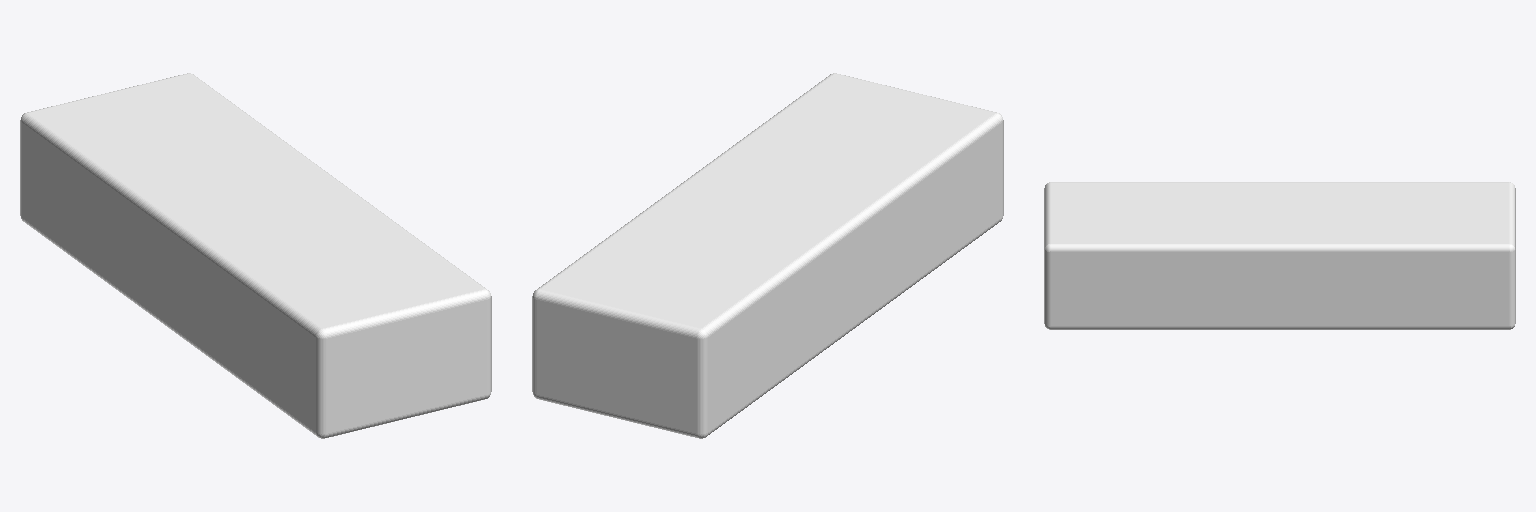
The robot description file, URDF, robot "Probe_tube":
<?xml version="1.0" ?>
<robot name="Probe_tube">
  <link name="baseLink">
    <contact>
      <lateral_friction value="0.6"/>
      <rolling_friction value="0.001"/>
      <contact_cfm value="0.0"/>
      <contact_erp value="1.0"/>
    </contact>
    <inertial>
      <origin rpy="0 0 0" xyz="0 0 0"/>
      <mass value="0.05"/>
      <inertia ixx="0.00001" ixy="0" ixz="0" iyy="0.00001" iyz="0" izz="0.00001"/>
    </inertial>
    <visual>
      <origin rpy="0 0 0" xyz="0 0 0"/>
      <geometry>
		    <mesh filename="zeug-simulation.obj" scale="1 1 1"/>
      </geometry>
      <material name="white">
        <color rgba="1 1 1 1"/>
      </material>
    </visual>
    <collision>
      <origin rpy="0 0 0" xyz="0 0 0"/>
      <geometry>
	      <mesh filename="zeug-simulation.obj" scale="1 1 1"/>
      </geometry>
    </collision>
  </link>
</robot>

--- Render facts (derived) ---
The picture shows the robot from 3 angles, left to right: view 1: azimuth 30°, elevation 25°; view 2: azimuth 150°, elevation 25°; view 3: azimuth 270°, elevation 25°; orthographic projection.
Model Probe_tube with 1 links and 0 joints (none), rooted at baseLink, posed every joint at zero.
Links seen in each view (by area): view 1: baseLink; view 2: baseLink; view 3: baseLink.
Link boxes in pixels (x1,y1,x2,y2): baseLink: [20, 73, 491, 438]; baseLink: [532, 73, 1003, 438]; baseLink: [1044, 182, 1515, 329].
Bounding box of the posed robot: 0.0375 × 0.1125 × 0.0225 m (x, y, z).
1 mesh visuals loaded from 1 distinct referenced files (1 OBJ).
